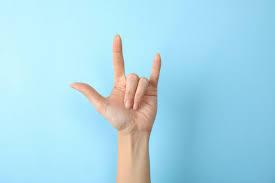Love-You: (72, 32, 162, 136)
